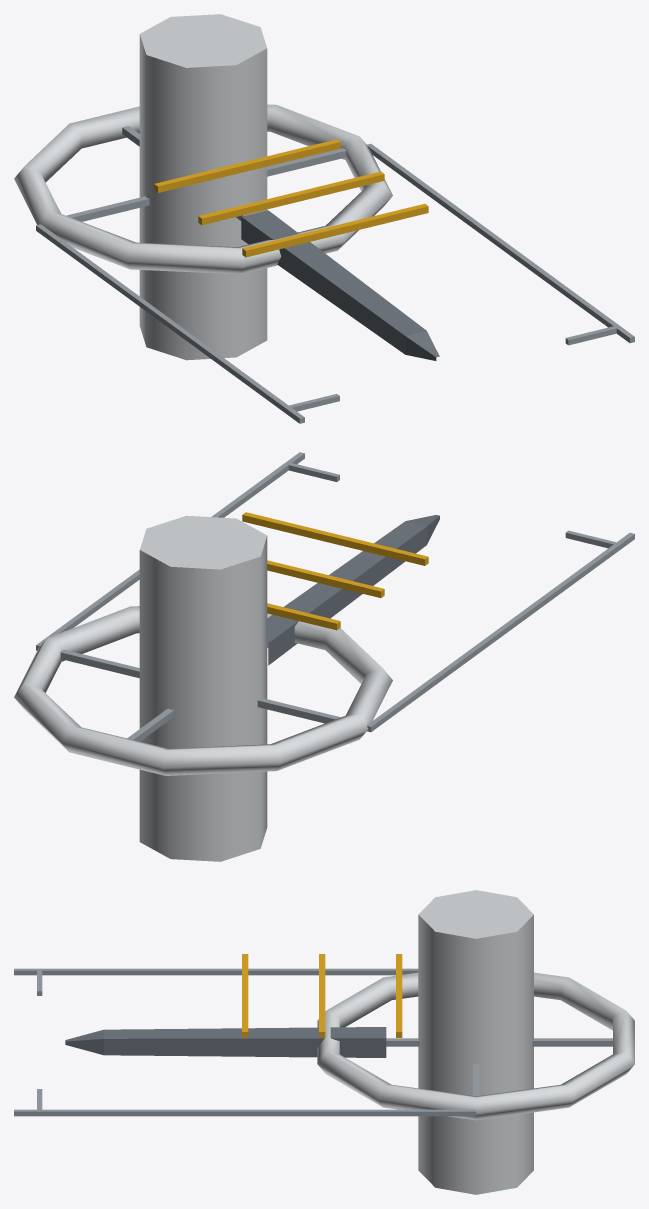
The model's file is space_orbital_shipyard_t3_lod1.glb.
The picture shows the model from 3 angles, top to bottom: view 1: azimuth 30°, elevation 25°; view 2: azimuth 150°, elevation 25°; view 3: azimuth 270°, elevation 25°; orthographic projection. The views are drawn at different scales.
Visible parts, largest first — view 1: body, ring, dock_arm_0, dock_arm_1, crane_1, crane_2, crane_0; view 2: body, ring, dock_arm_0, dock_arm_1, crane_2, crane_1, crane_0; view 3: body, ring, dock_arm_1, dock_arm_0, crane_0, crane_1, crane_2.
Boxes of the visible parts, x1,y1,x2,y2 form: body: [139, 14, 439, 360]; ring: [14, 104, 392, 274]; dock_arm_0: [36, 224, 339, 423]; dock_arm_1: [367, 143, 634, 345]; crane_1: [198, 171, 384, 225]; crane_2: [242, 203, 428, 257]; crane_0: [154, 139, 340, 192]; body: [139, 515, 439, 861]; ring: [14, 606, 392, 775]; dock_arm_0: [367, 530, 634, 732]; dock_arm_1: [36, 452, 339, 650]; crane_2: [242, 512, 428, 565]; crane_1: [267, 560, 384, 597]; crane_0: [267, 603, 340, 630]; body: [65, 890, 533, 1194]; ring: [317, 972, 634, 1120]; dock_arm_1: [14, 1089, 476, 1116]; dock_arm_0: [14, 968, 418, 995]; crane_0: [396, 954, 402, 1037]; crane_1: [319, 954, 325, 1037]; crane_2: [242, 954, 248, 1037].
Bounding box in the file's own units: 26.4 × 22 × 48.36.
